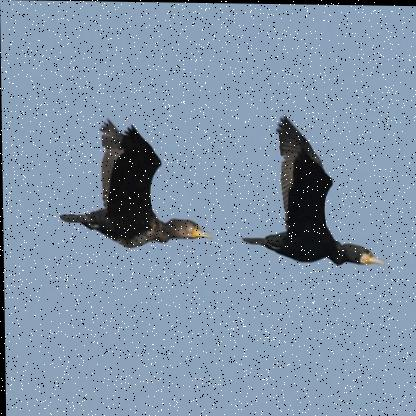Burung: (239, 123, 383, 288), (49, 123, 211, 254)
